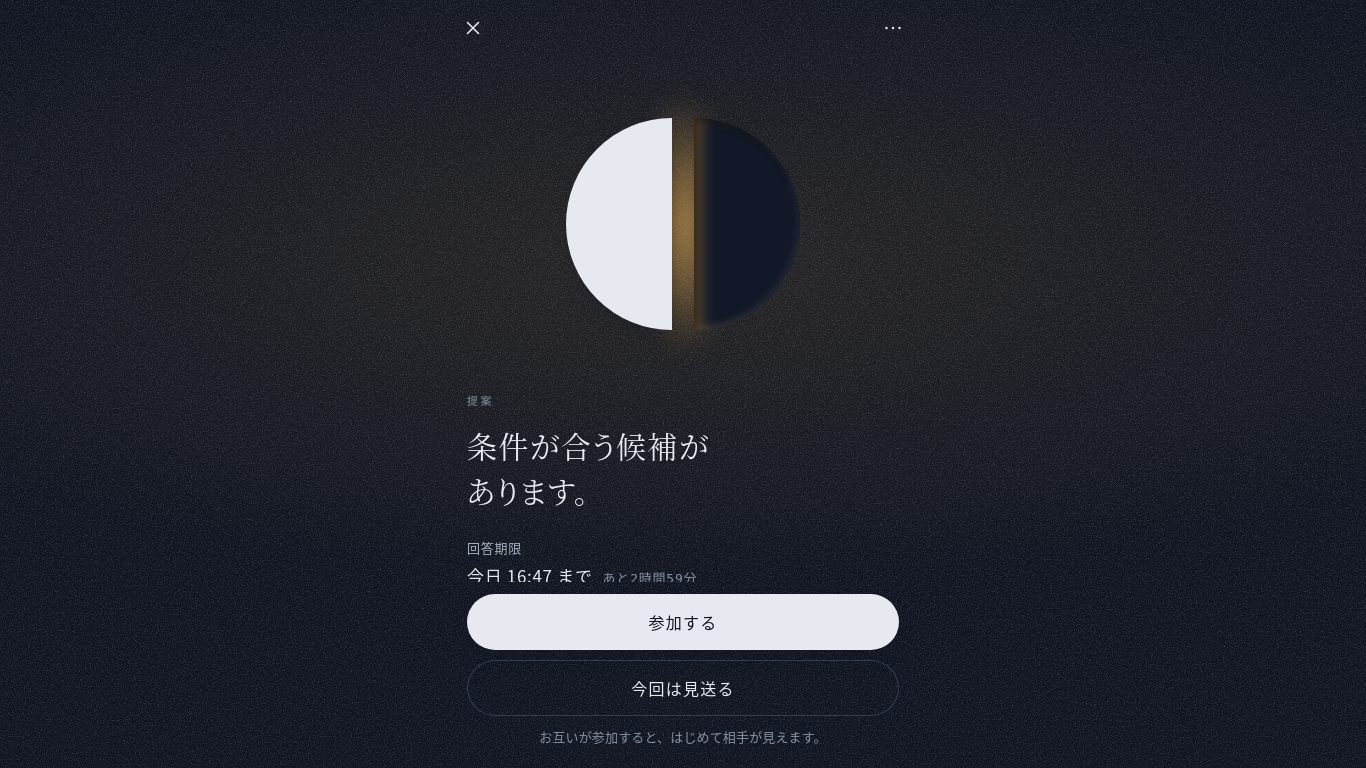
Test case: LatchScreen › 今回は見送るで見送った画面へ置き換える
What coordinates should you click on to do the following:
click the button "今回は見送る"
I would click on:
 (683, 688)
Its box is [467,660,899,716].
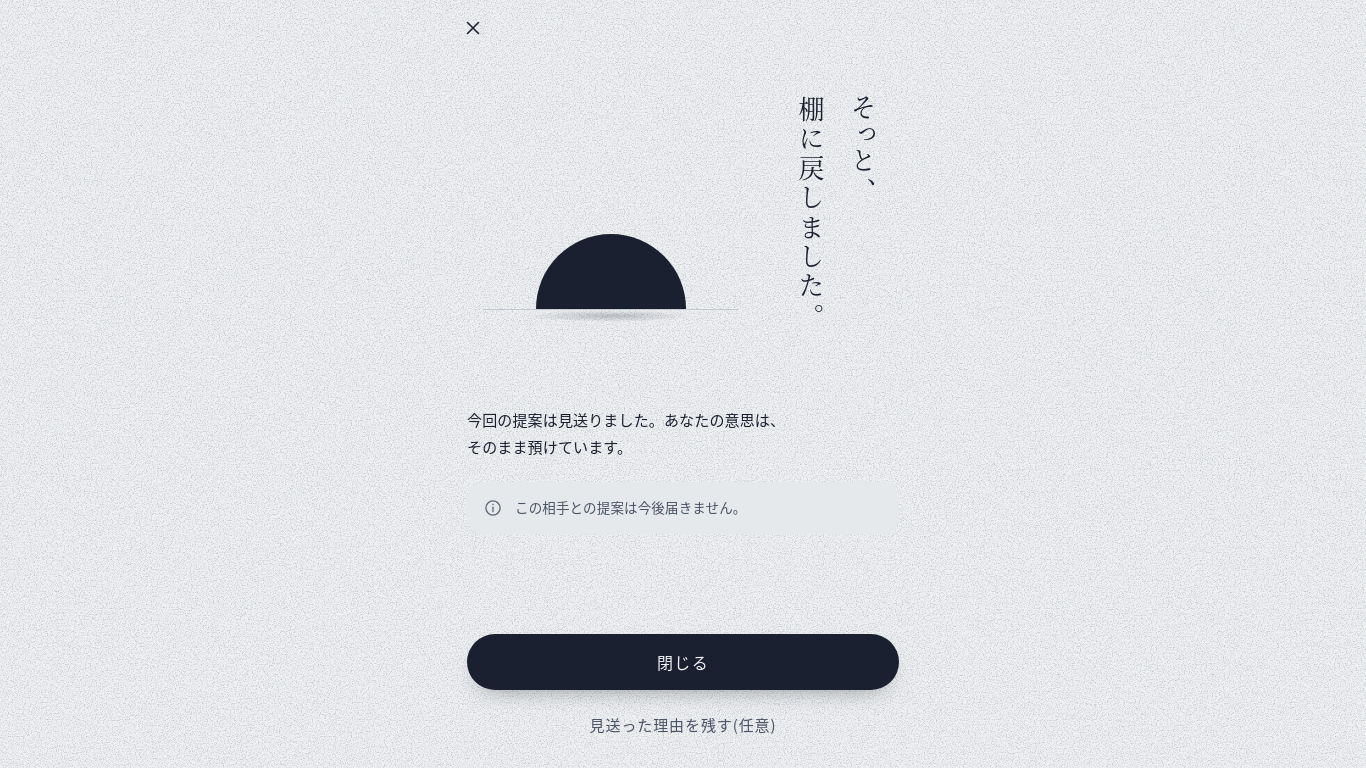
Expected: the text "今回の提案は見送りました。あなたの意思は、そのまま預けています。" is shown, [467,409,785,457]
